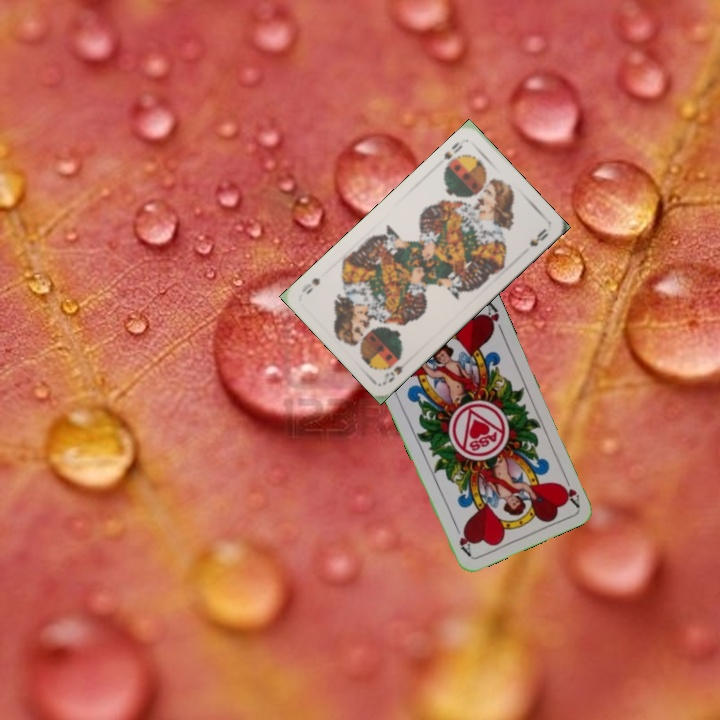HA: (557, 470, 582, 509)
SO: (380, 361, 405, 385), (440, 138, 465, 162)
